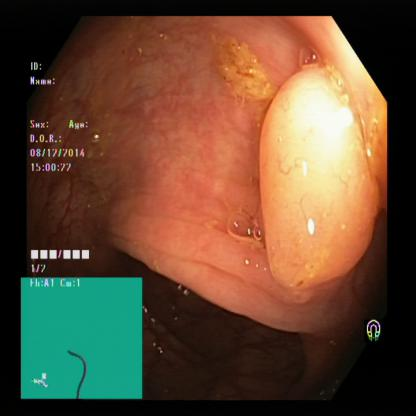Labels: (28, 53, 116, 277), (22, 277, 142, 402)
Polyps: (263, 53, 368, 297)
